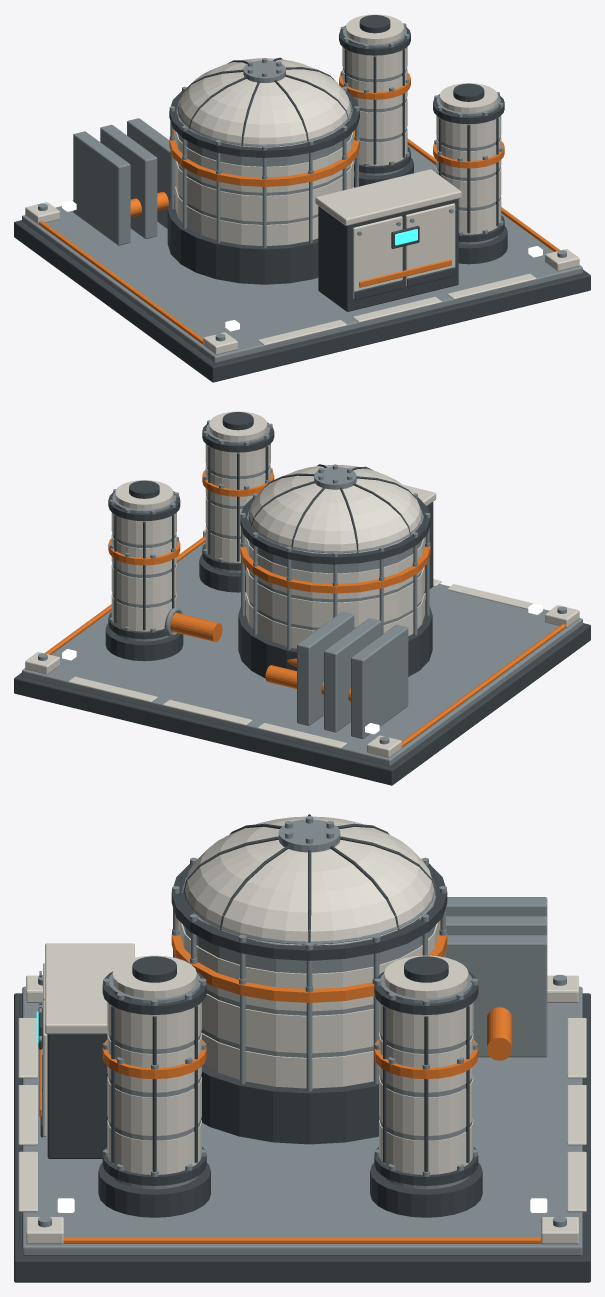
Rendered from SM_NuclearReactor_Refined.fbx.
The picture shows the model from 3 angles, top to bottom: view 1: azimuth 30°, elevation 25°; view 2: azimuth 150°, elevation 25°; view 3: azimuth 270°, elevation 25°; orthographic projection. The views are drawn at different scales.
Visible parts, largest first — view 1: SM_NuclearReactor_Refined; view 2: SM_NuclearReactor_Refined; view 3: SM_NuclearReactor_Refined.
Part boxes in pixels (bbox=[...]): SM_NuclearReactor_Refined: bbox=[14, 14, 590, 382]; SM_NuclearReactor_Refined: bbox=[14, 411, 590, 785]; SM_NuclearReactor_Refined: bbox=[14, 814, 590, 1282].
Size of the model in its own units: 450 by 410 by 233.
